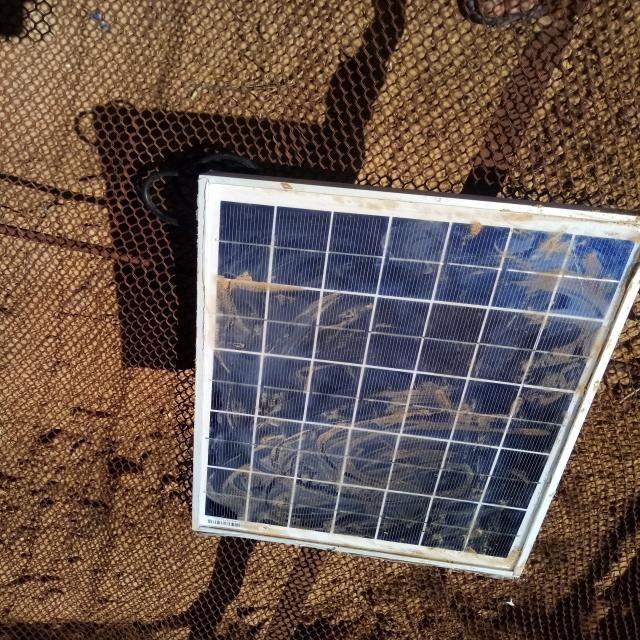faulty: (191, 180, 640, 575)
